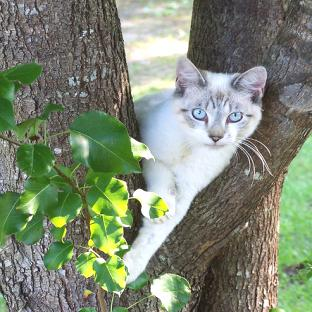Animal: (124, 57, 267, 282)
